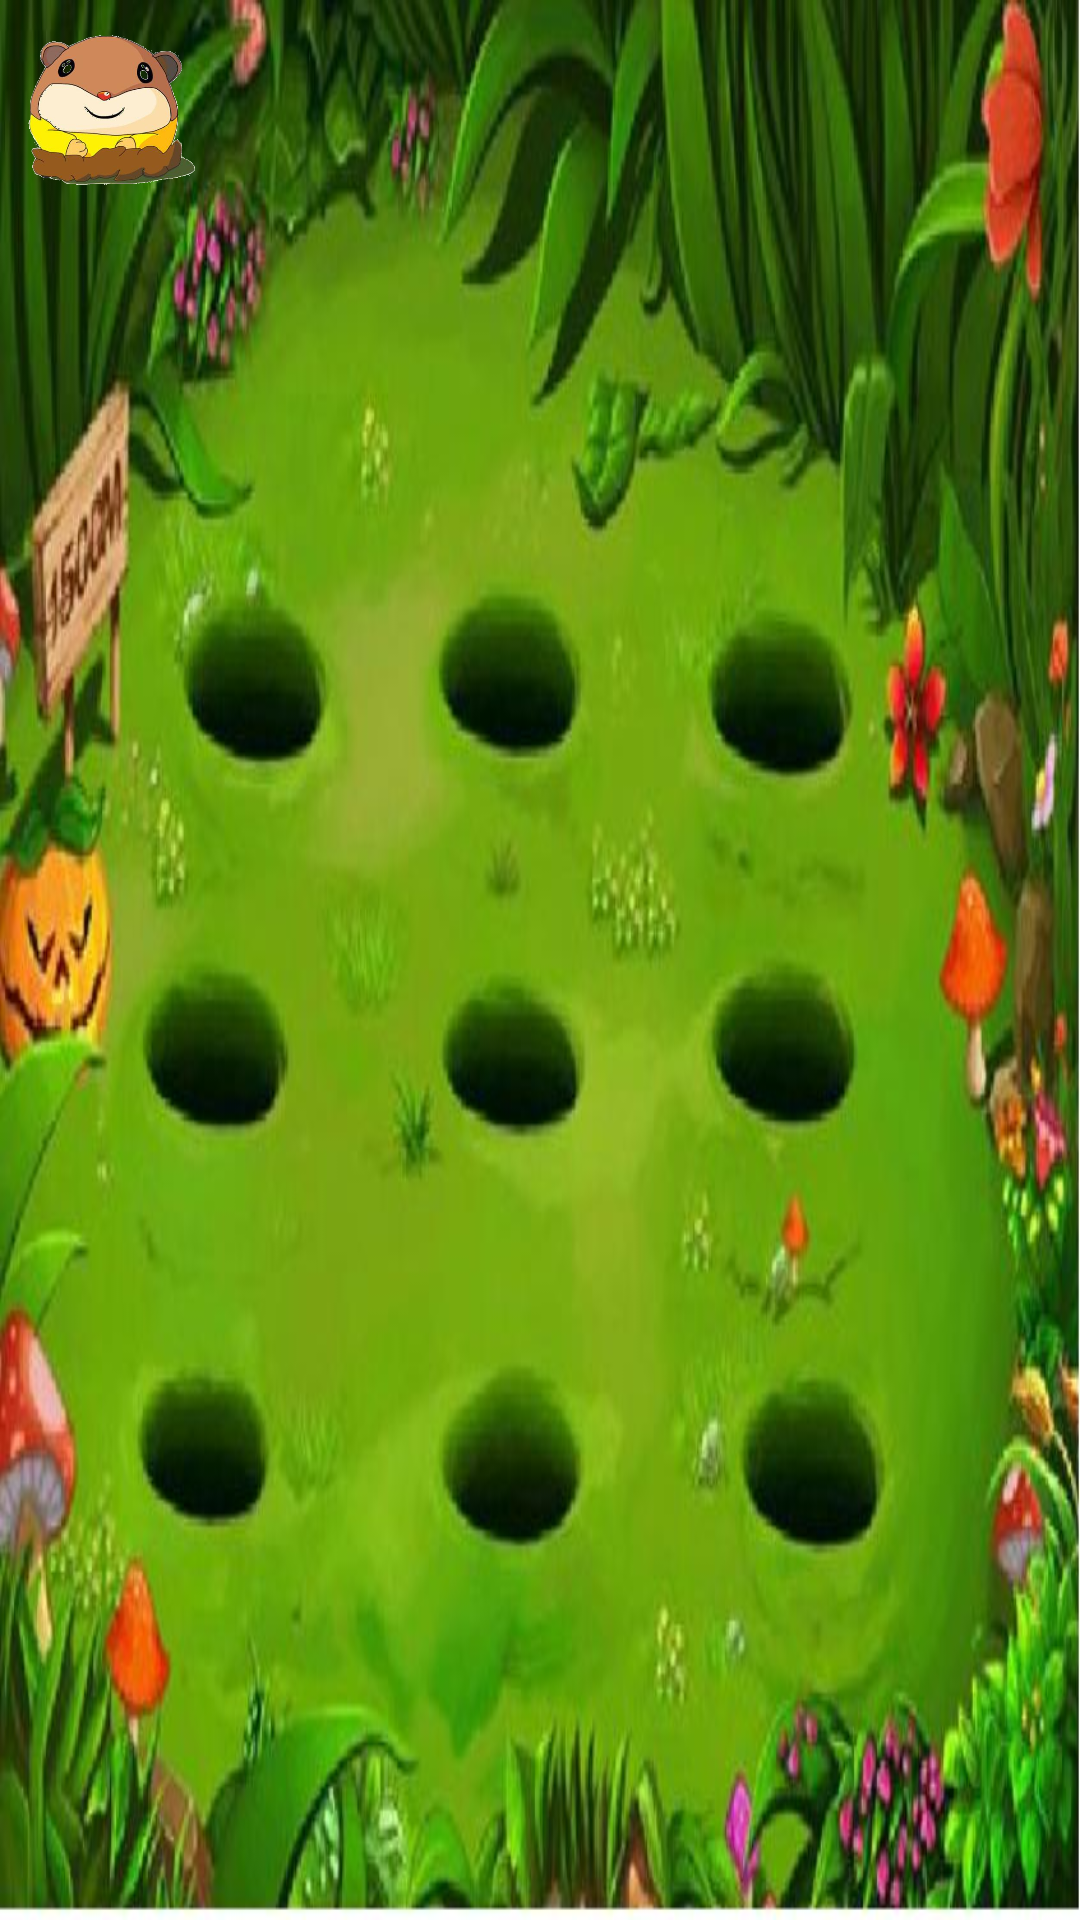

Icons on this 1080 × 1920 Android screen, each with the point to tap as point (x, y):
mouse: point (108, 108)
